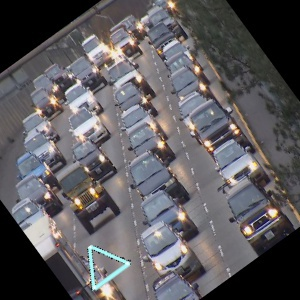triangle: (83, 241, 134, 293)
